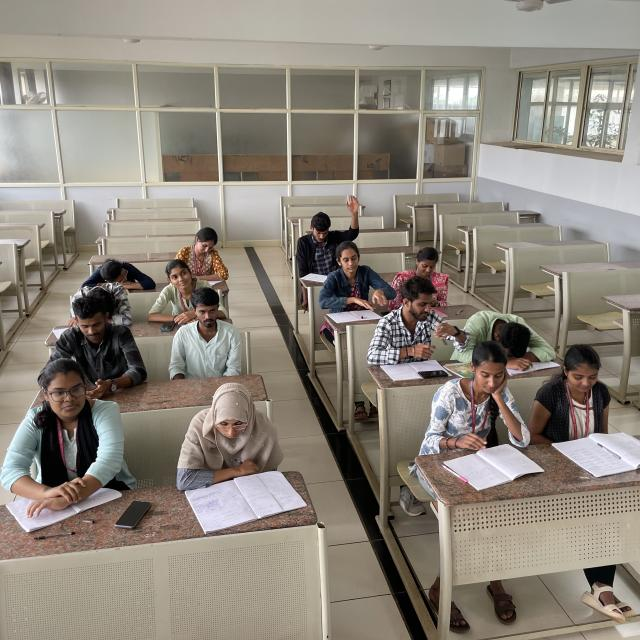Hand Rising: (291, 195, 362, 256)
Reading: (160, 379, 298, 514), (423, 338, 534, 487), (525, 341, 631, 468)
Sleeping: (459, 307, 556, 359), (76, 285, 136, 324), (85, 258, 155, 290)
Using Phone: (49, 295, 149, 399), (397, 245, 451, 298)
Writing: (177, 224, 229, 287)
